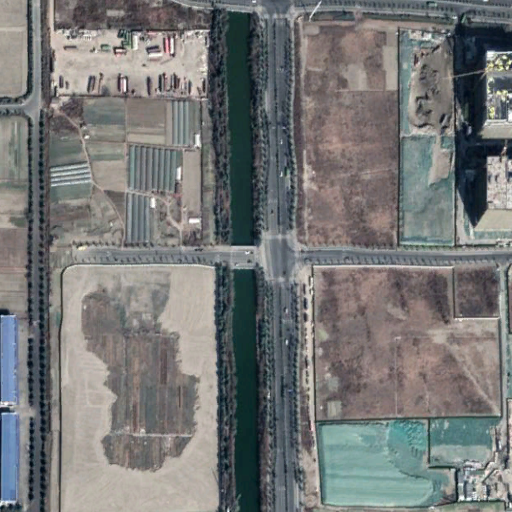cw: (312, 416, 508, 512), (399, 28, 457, 246)
